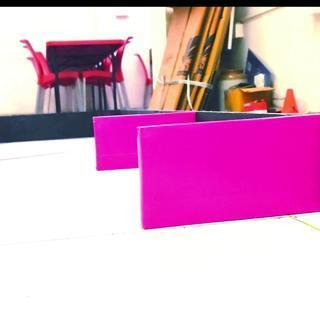xparking: (143, 127, 320, 219), (94, 114, 136, 167)
